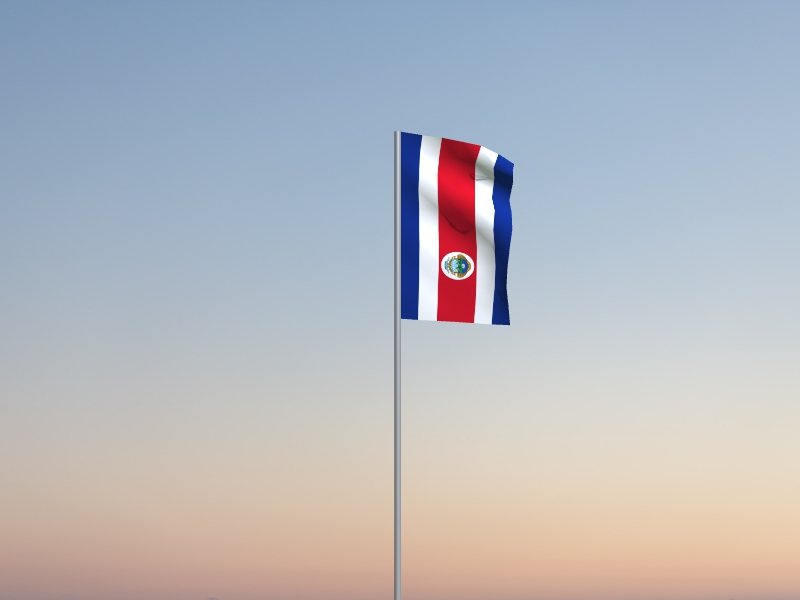cr: (401, 133, 515, 327)
